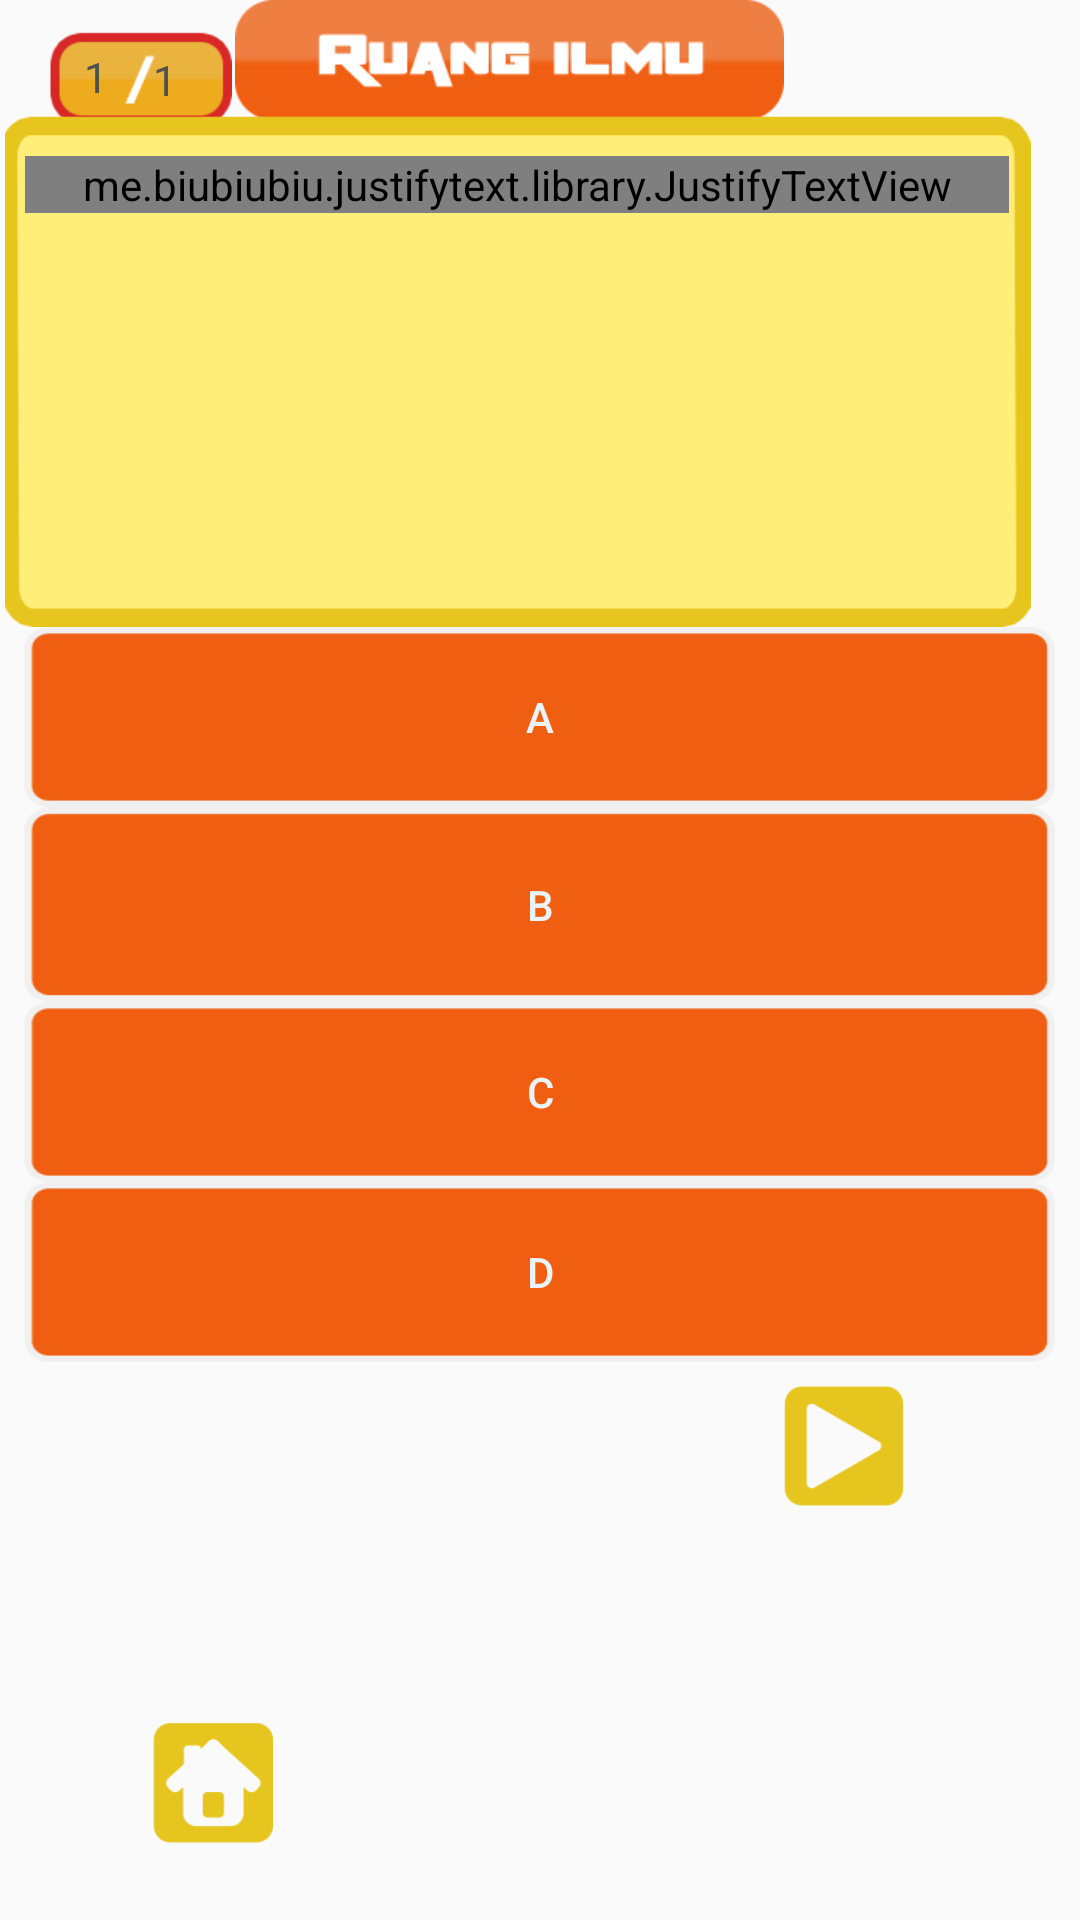

Screen size 1080 x 1920. Icon name, then its box in pixels as (x1, y1, x2, y2):
lanjut: (784, 1386, 904, 1506)
rumah: (153, 1723, 273, 1843)
